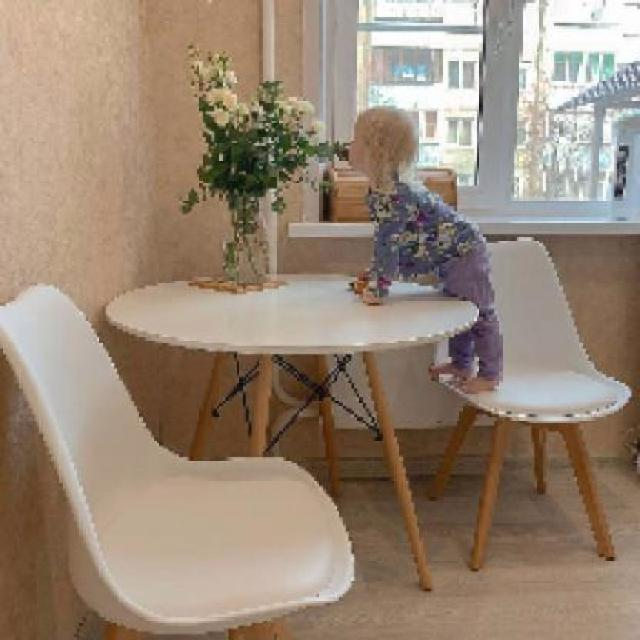child: (351, 104, 506, 396)
